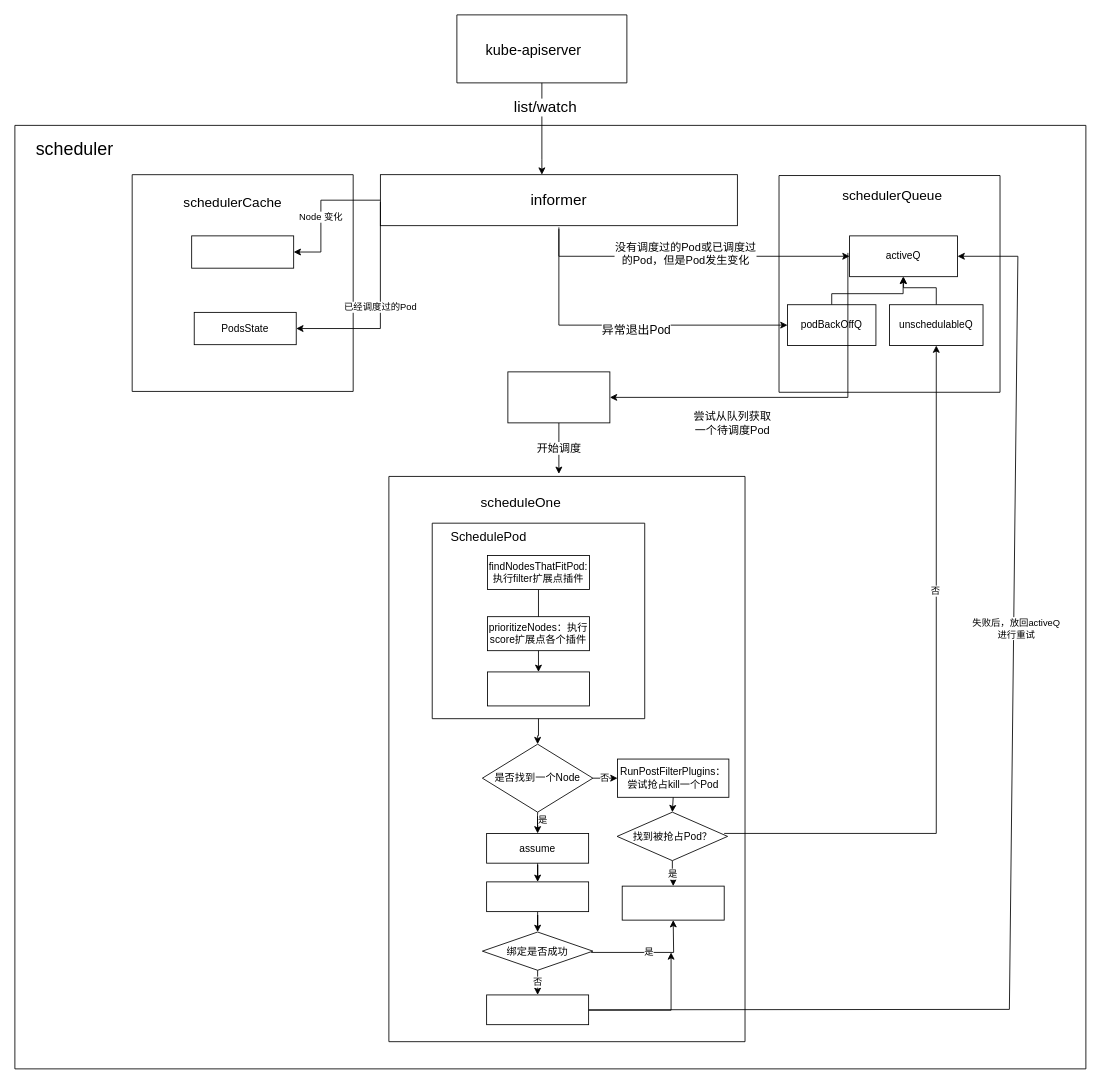
Some shapes in this 1101 by 1084 pixel diagram are drawn without their labels. Each missing label, with the centre of its shape:
bind: point 537,896
nextPod(): point 558,397
Nodes: point 242,251
selectHost：选出最合适的 Node: point 538,688
本轮调度结束: point 672,902
清除assume时修改的缓存信息: point 537,1009
